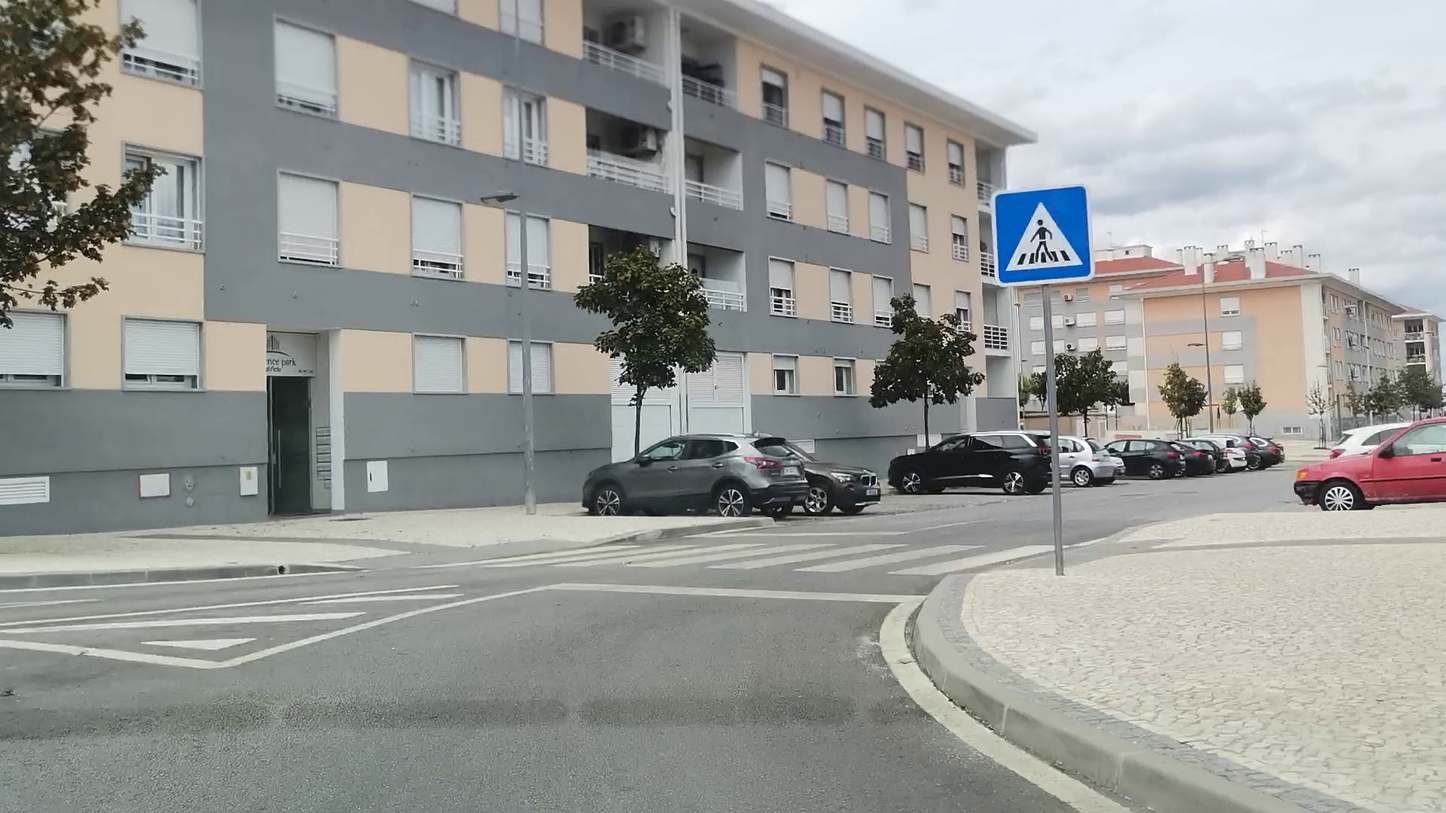Stairs: (424, 538, 1058, 578)
